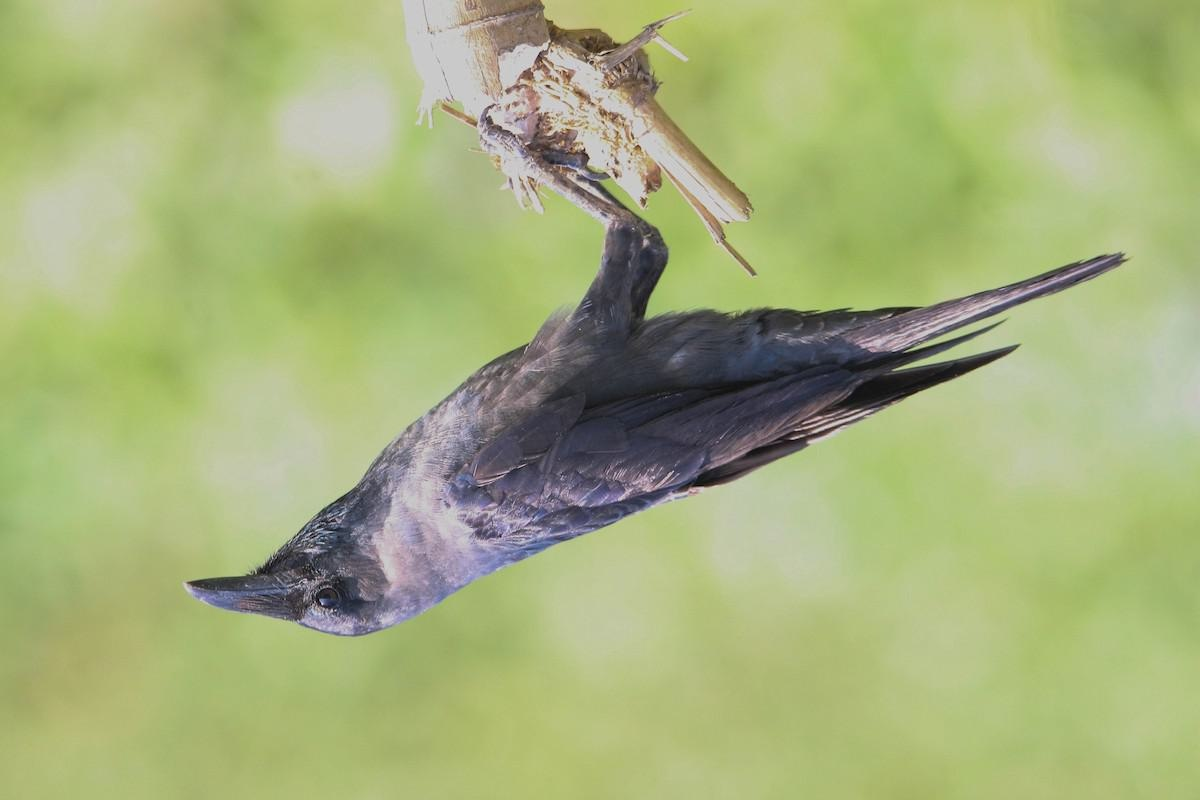crow: (186, 130, 1130, 647)
